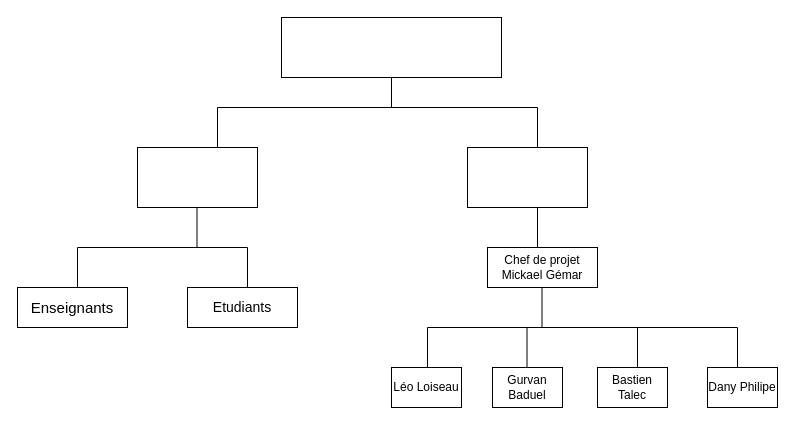
This 795x425 diagram has some shape labels left out. The centre of each missing label's shape, as x and y in pixels:
Equipe N°5: point 527,177
IUT Lannion: point 197,177
Mini Moodle: point 391,47
